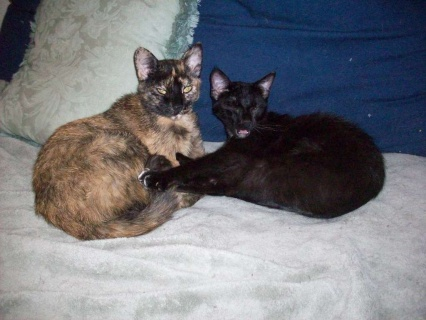Cat: (138, 71, 388, 223), (27, 42, 214, 238)
